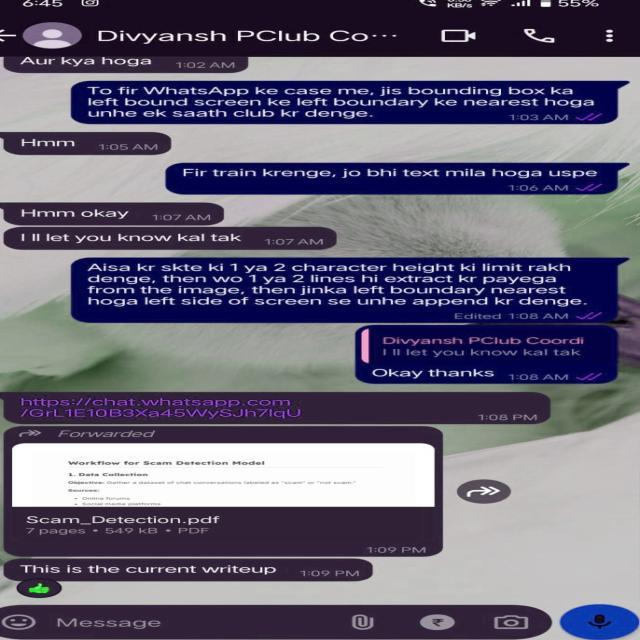scam: (5, 393, 340, 421), (21, 514, 248, 542), (16, 562, 289, 576), (16, 229, 255, 244), (10, 200, 150, 224), (9, 54, 170, 70), (5, 134, 110, 156)
